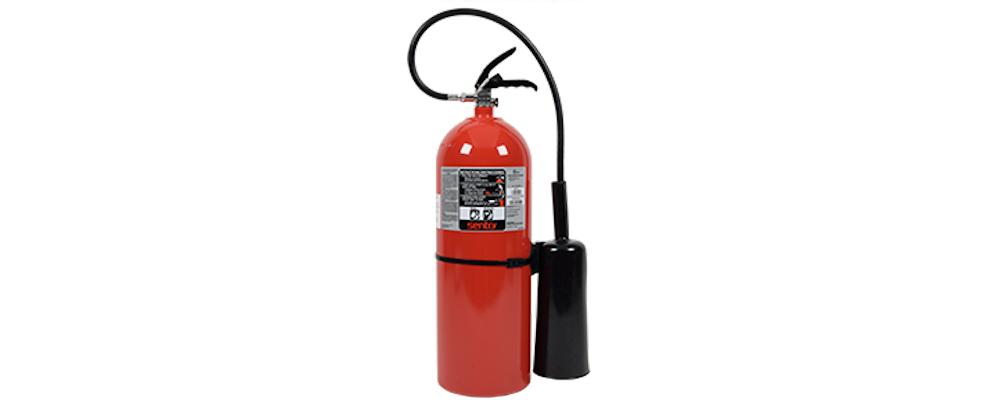Fire Extinguisher: (400, 1, 612, 404)
